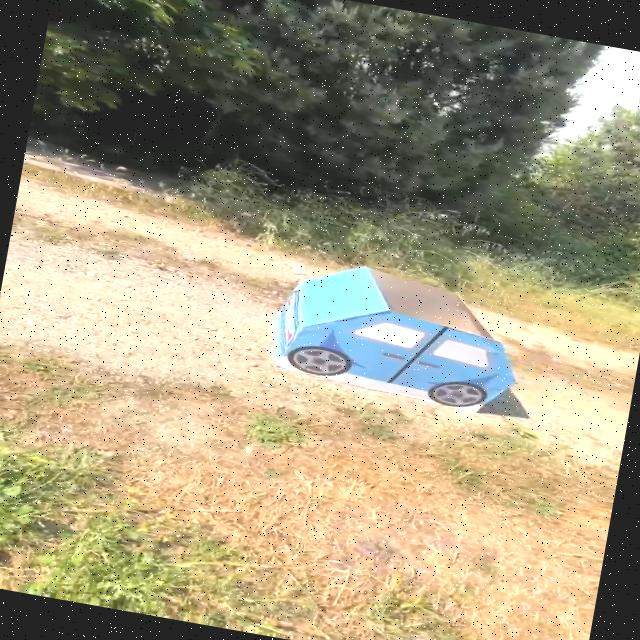blue_car: (207, 238, 550, 444)
